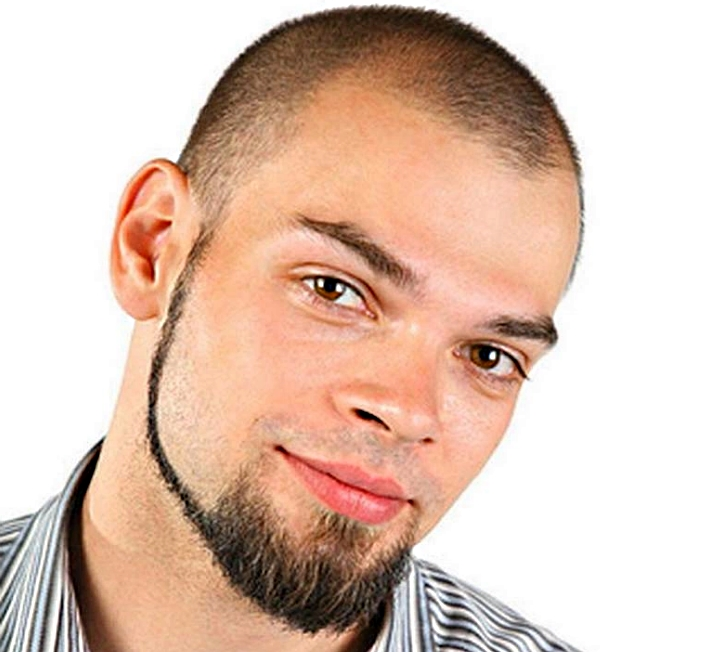beard: (176, 421, 438, 636)
